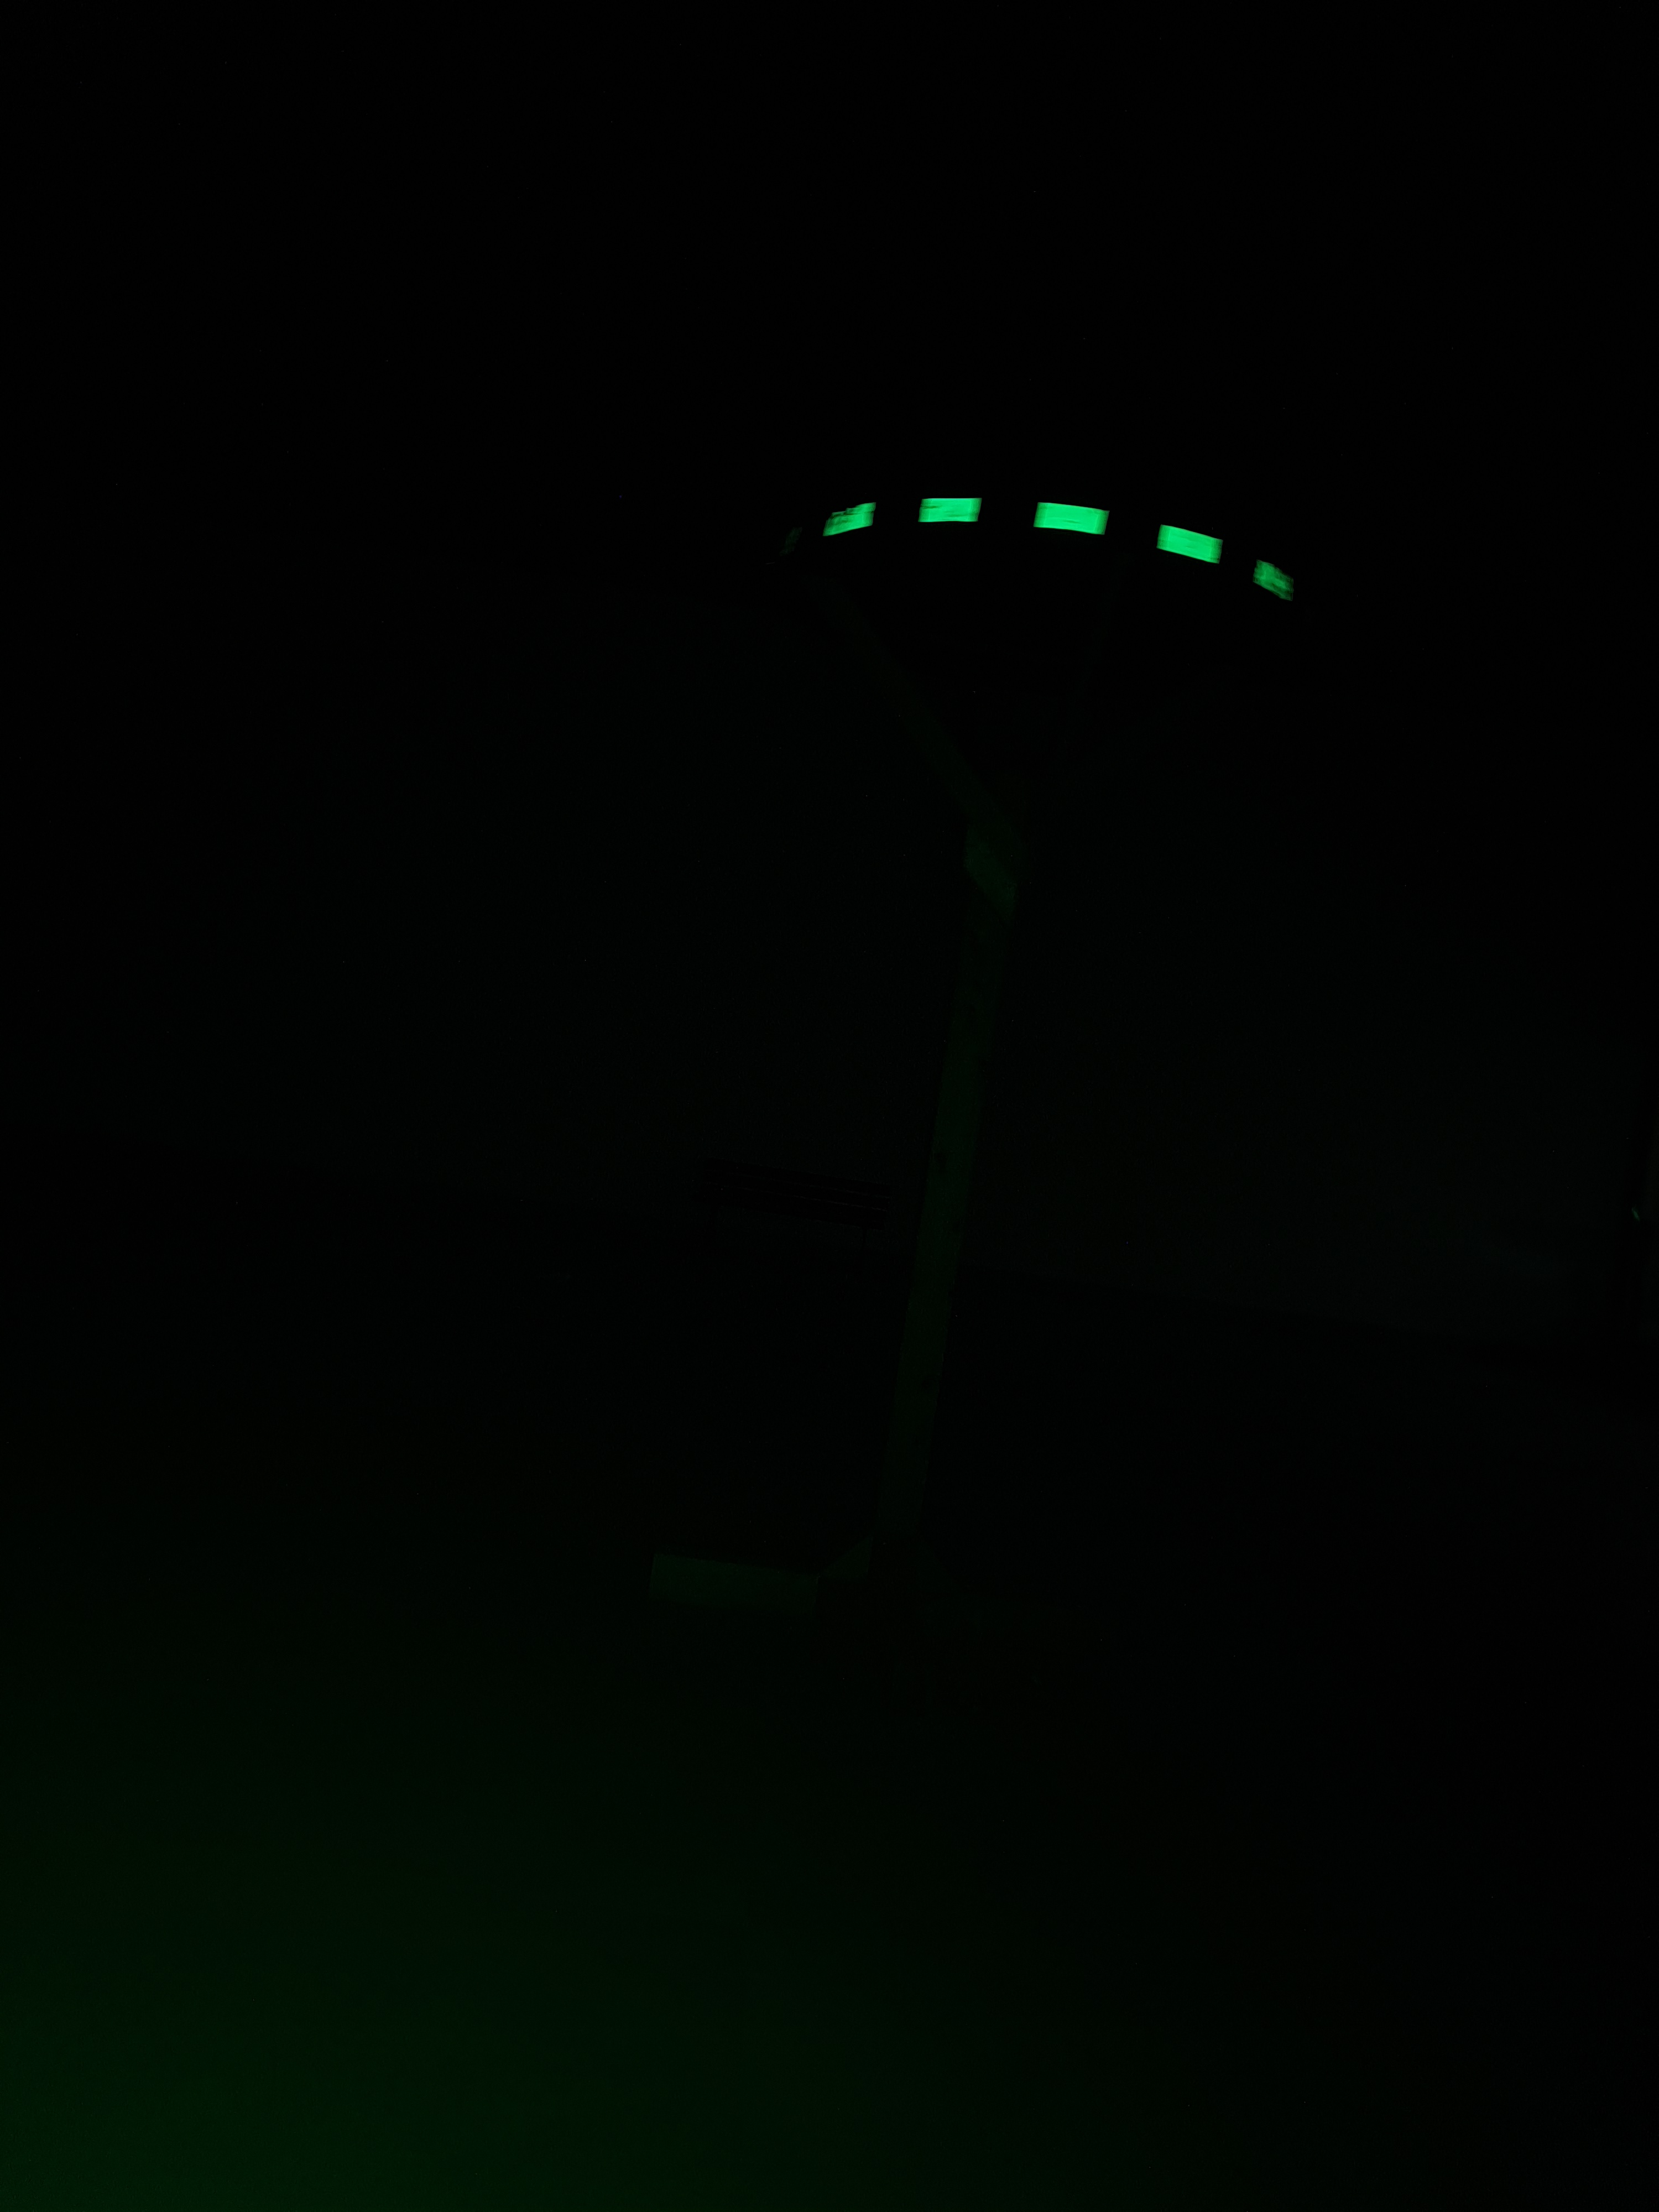hoop: (819, 482, 1295, 606)
